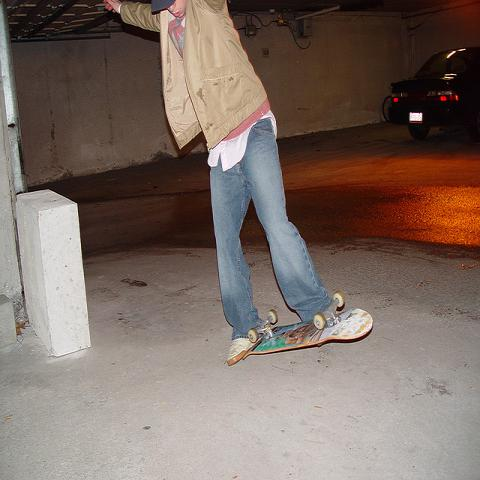car: (388, 45, 479, 143)
